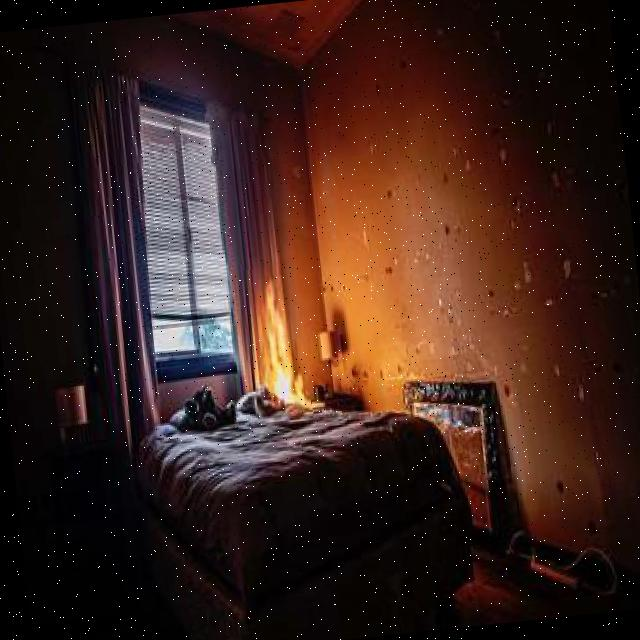fire: (242, 264, 313, 423)
